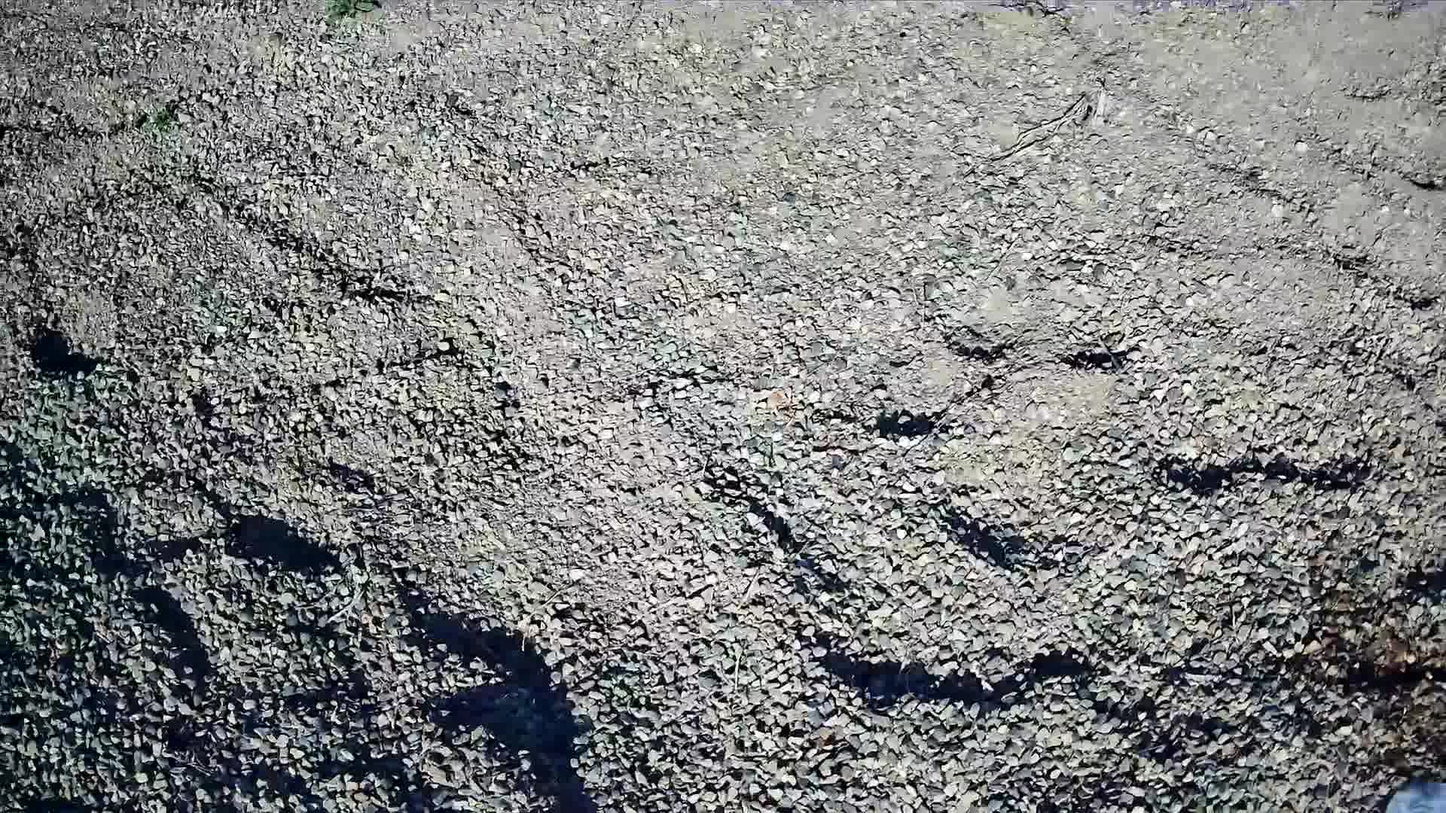Target: (1382, 775, 1446, 813)
